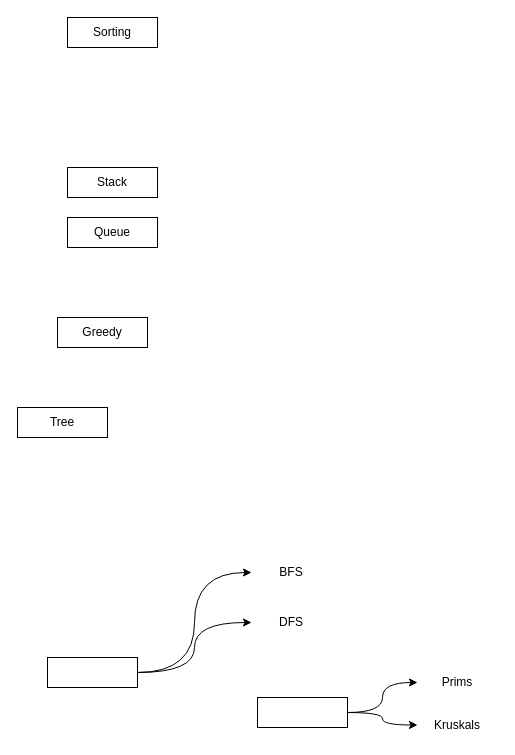
Image size: 515x755. Some labels were removed from this diagram. The centre of each missing label's shape, as x and y in pixels:
"Graph" goes at point (92, 672).
"MST" goes at point (302, 712).
